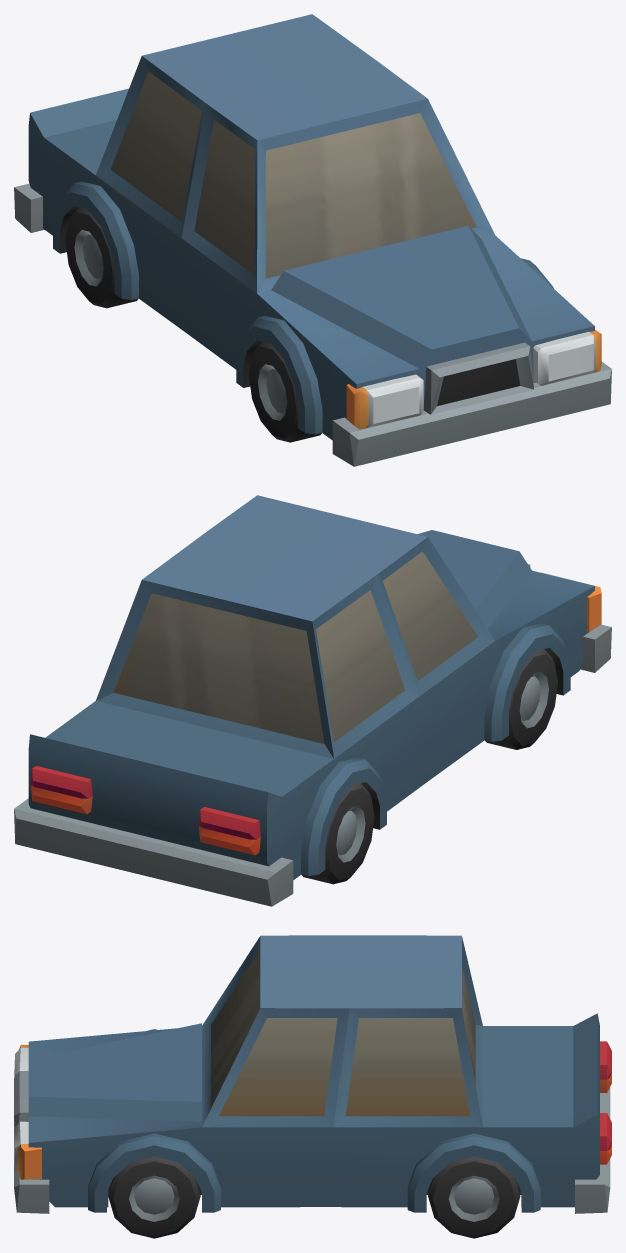
The model's file is kay-sedan.gltf.
3 views of the same model, one above another, from view 1: azimuth 30°, elevation 25°; view 2: azimuth 150°, elevation 25°; view 3: azimuth 270°, elevation 25° (orthographic). The views are drawn at different scales.
Parts seen in each view (by area): view 1: car_sedan; view 2: car_sedan; view 3: car_sedan.
Boxes of the visible parts, bbox=[...] form: car_sedan: bbox=[14, 14, 611, 466]; car_sedan: bbox=[14, 495, 611, 906]; car_sedan: bbox=[14, 935, 611, 1238].
Bounding box in the file's own units: 2.09 × 1.84 × 4.69.
1 material, 1 textured.
